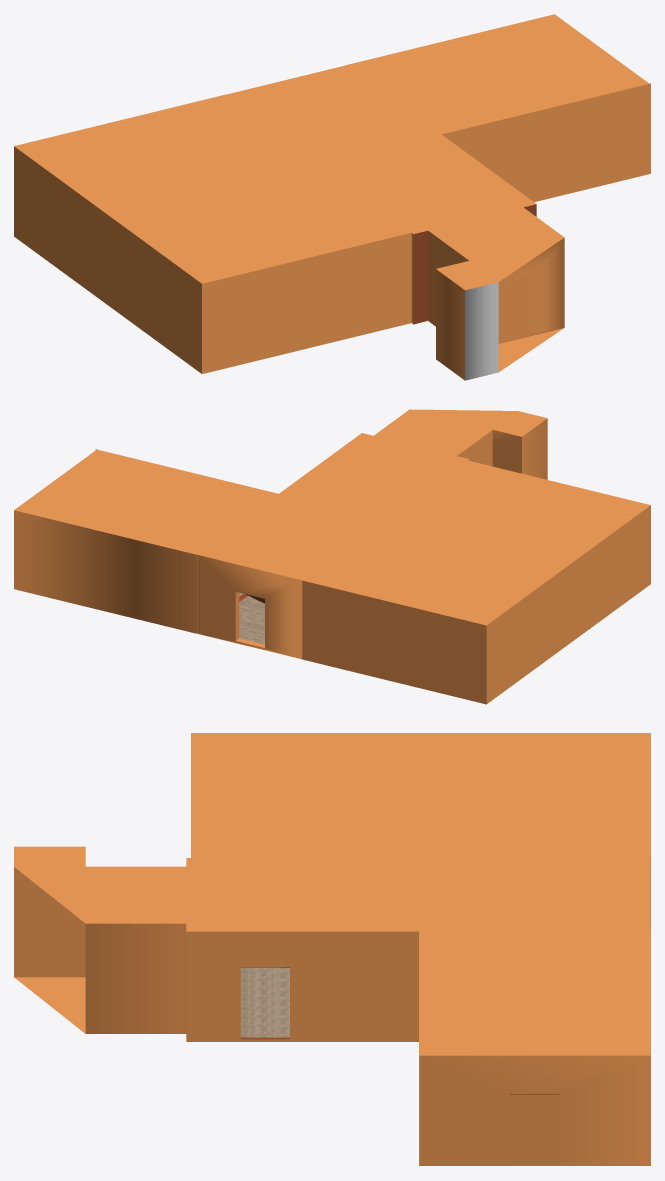
Rendered from Home.fbx.
The picture shows the model from 3 angles, top to bottom: view 1: azimuth 30°, elevation 25°; view 2: azimuth 150°, elevation 25°; view 3: azimuth 270°, elevation 25°; orthographic projection. The views are drawn at different scales.
Visible parts, largest first — view 1: Cube.001; view 2: Cube.001; view 3: Cube.001.
Part boxes in pixels (x1,y1,x2,y2): Cube.001: (14,14,650,380); Cube.001: (14,409,650,704); Cube.001: (14,733,650,1166).
Bounding box in the file's own units: 1035 × 165 × 861.
Materials: 12 (2 with a texture image).
